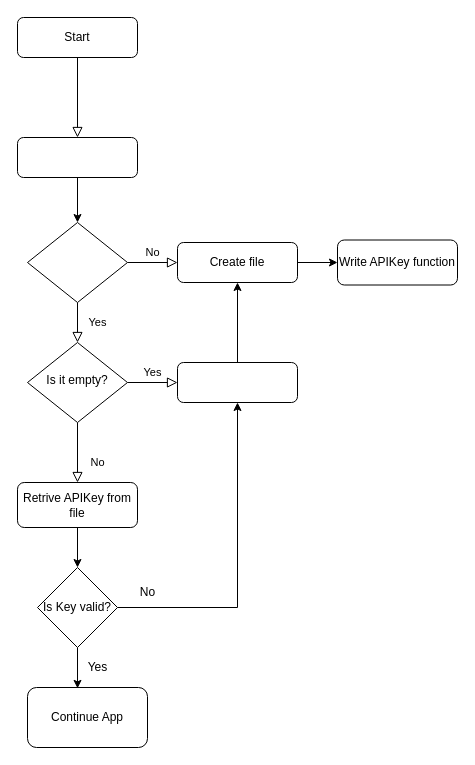
The diagram is 475 pixels wide and 765 high, and some of its shapes have lost their labels. The centre of each missing label's shape, as x and y in pixels:
Delete file: (237,382)
Does "cookies.json" exists?: (77,262)
First setup: (77,157)
